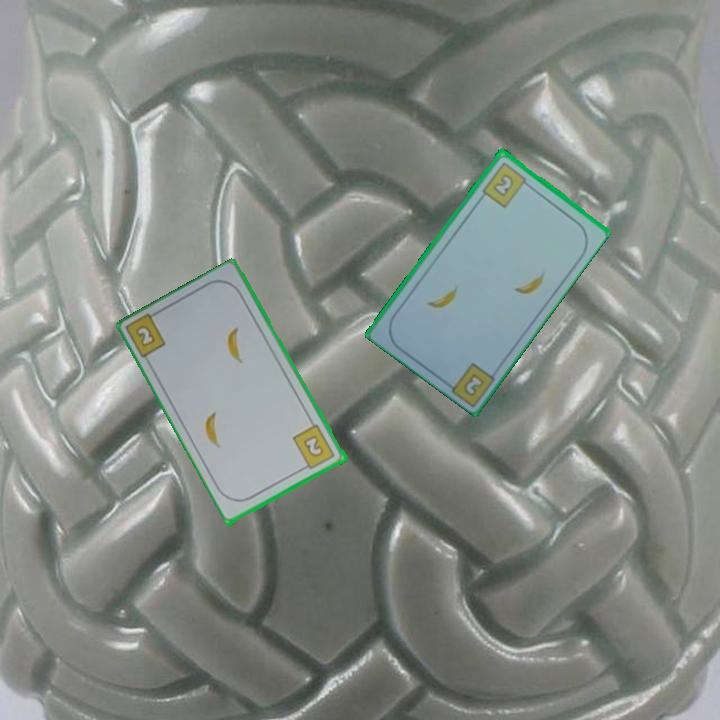2b: (479, 158, 533, 210), (290, 421, 338, 473), (460, 370, 487, 399), (132, 322, 159, 350)
